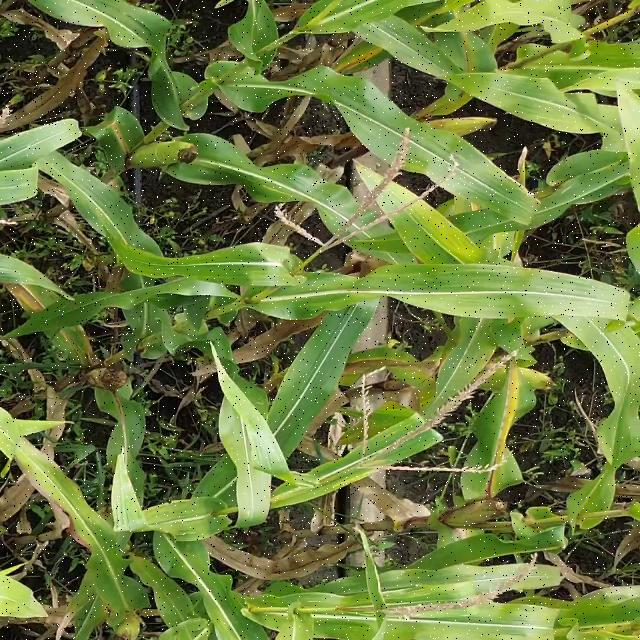gray-leaf-spot: (246, 137, 369, 225)
northern-leaf-blight: (437, 367, 549, 506), (376, 176, 508, 286), (6, 264, 103, 367), (280, 39, 396, 100), (94, 108, 148, 169)
